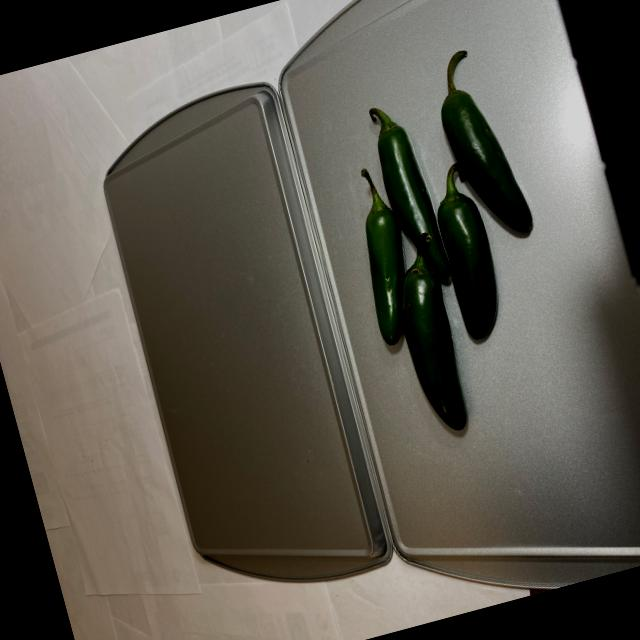chilli: (308, 37, 578, 446)
